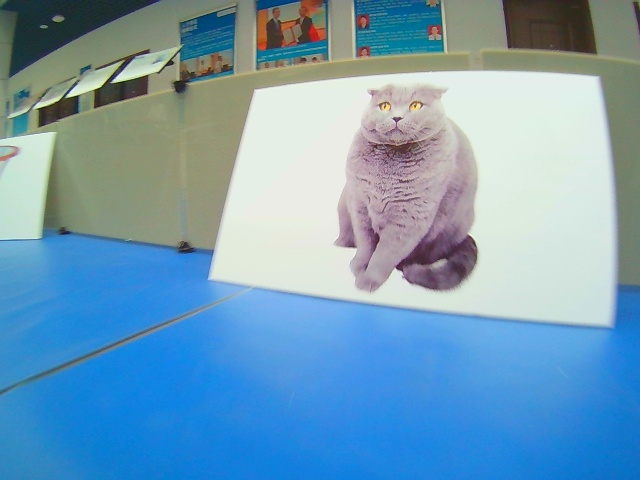pet: (208, 70, 617, 332)
